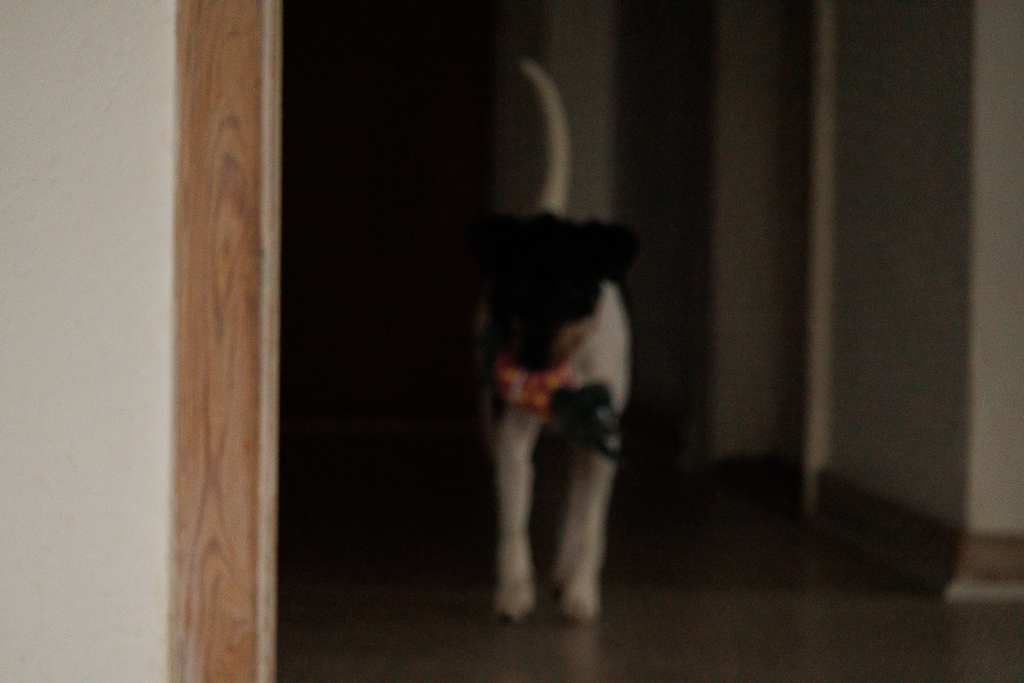Dog: (432, 37, 662, 640)
Humanoid: (468, 332, 635, 476)
